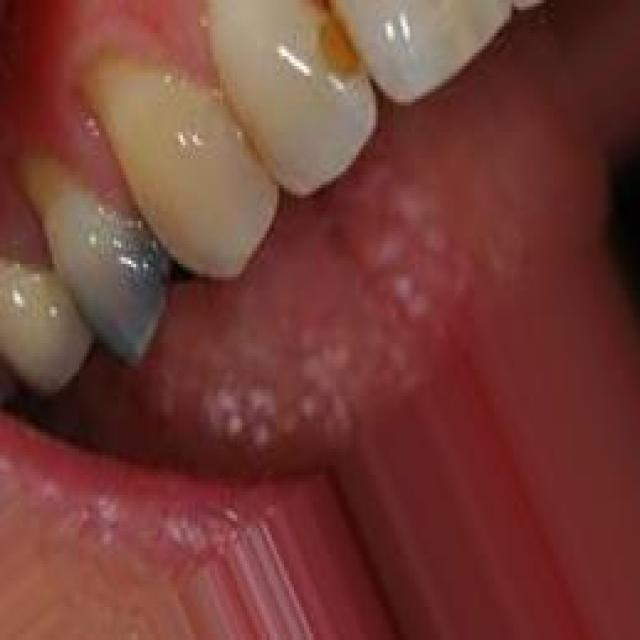caries: (297, 4, 380, 106)
